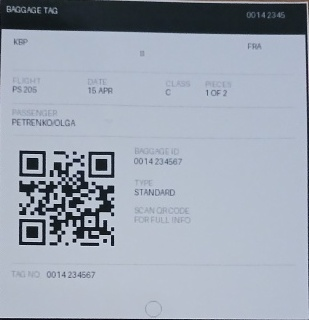LPN_bottom: (42, 267, 99, 281)
LPN_right: (130, 154, 184, 168)
